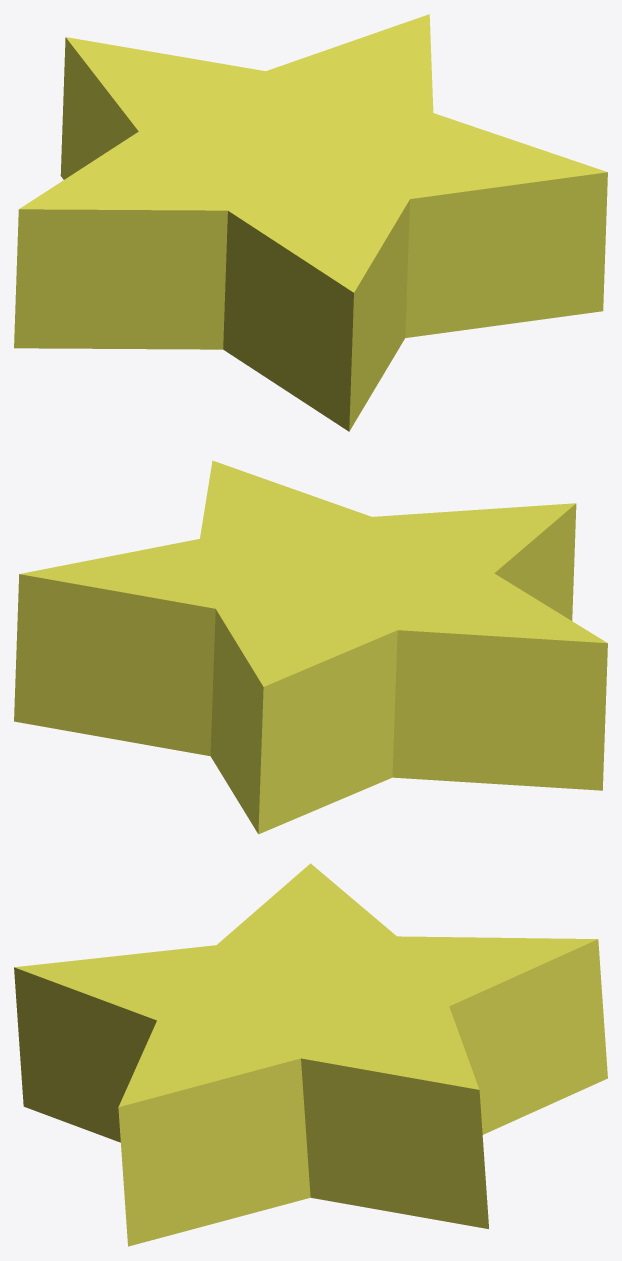
Rendered from Star.fbx.
3 views of the same model, one above another, from view 1: azimuth 30°, elevation 25°; view 2: azimuth 150°, elevation 25°; view 3: azimuth 270°, elevation 25° (orthographic). The views are drawn at different scales.
Visible parts, largest first — view 1: Star; view 2: Star; view 3: Star.
Part boxes in pixels (box(x1,y1,x2,y2)): Star: box(14, 14, 607, 431); Star: box(14, 460, 607, 834); Star: box(14, 863, 607, 1246).
Bounding box in the file's own units: 182 × 193 × 61.84.
